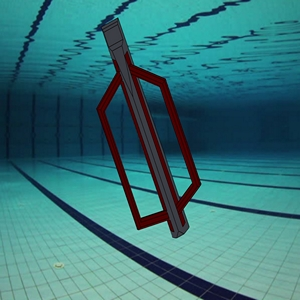submarine: (71, 14, 224, 246)
